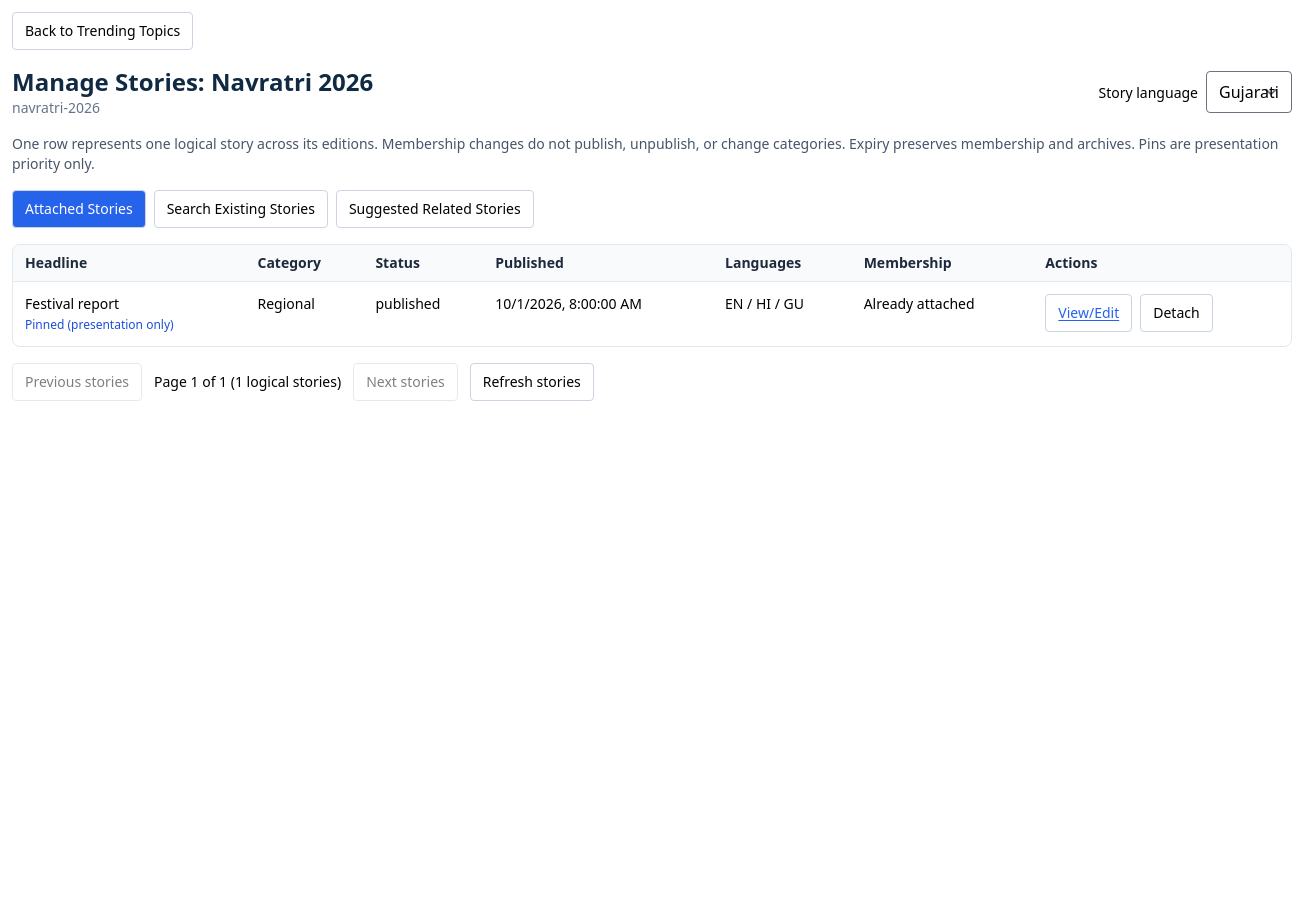
Test: Trending Topic attached/search/candidate UI › attaches 1 explicitly selected logical stories with no article/config writes
Check: the text "Festival report" is shown, box [25,294,119,313]
Click the button "Search Existing Stories" at [241, 209], box [154,190,328,228]
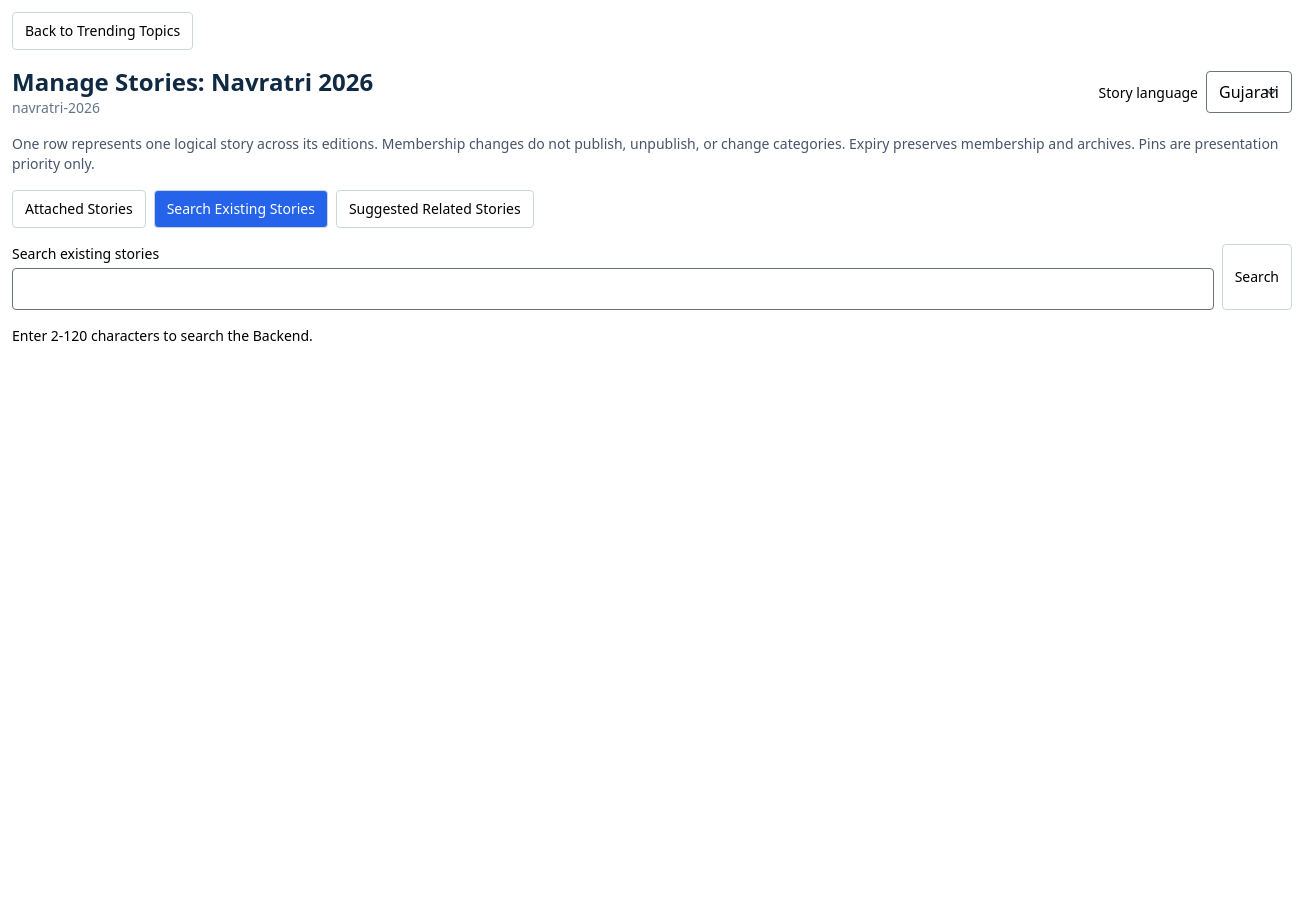
Type "navratri" into the field labelled "Search existing stories" at [613, 289], box [12,268,1214,310]
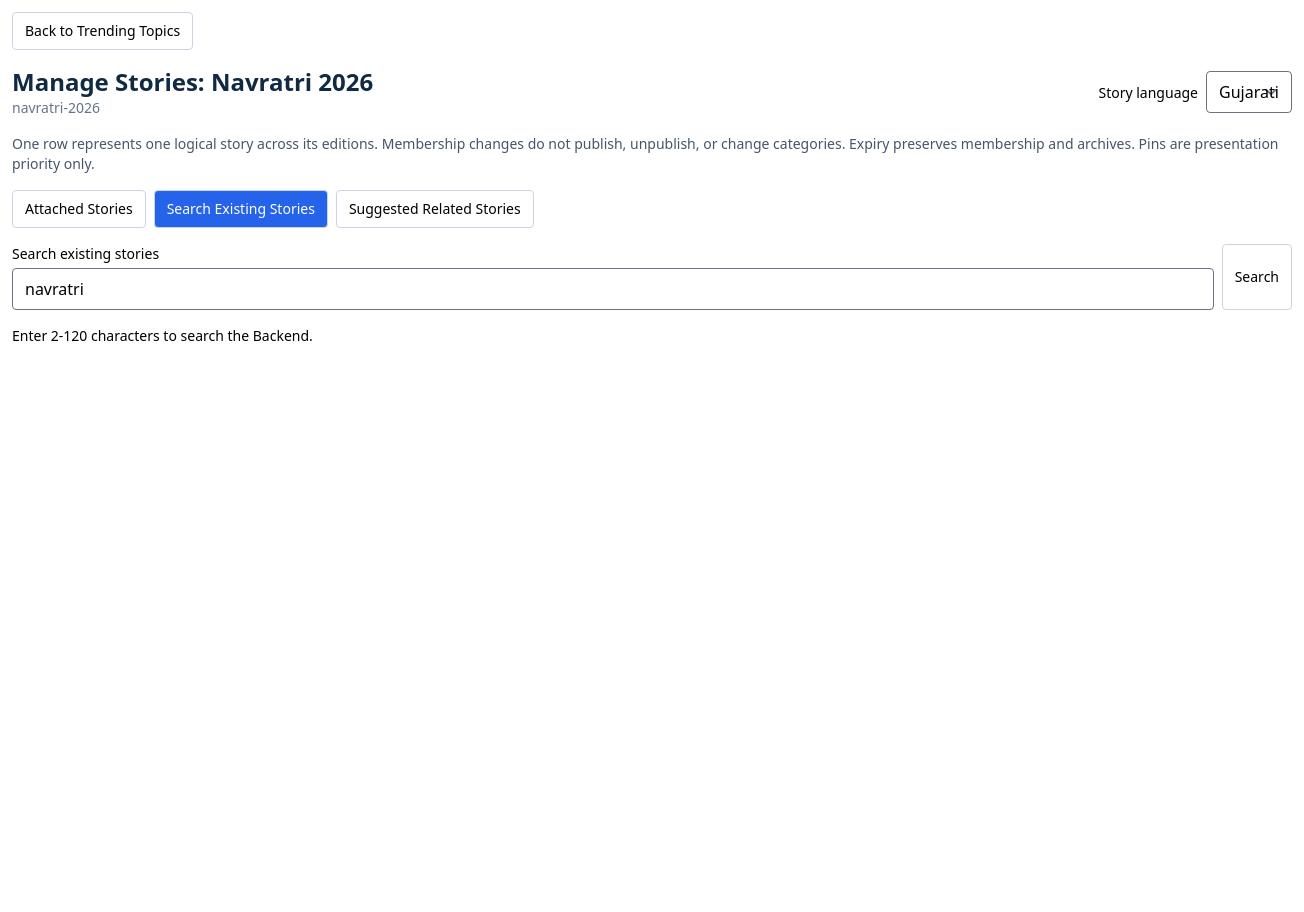
Click the button "Search" at [1257, 277], box [1222,244,1292,310]
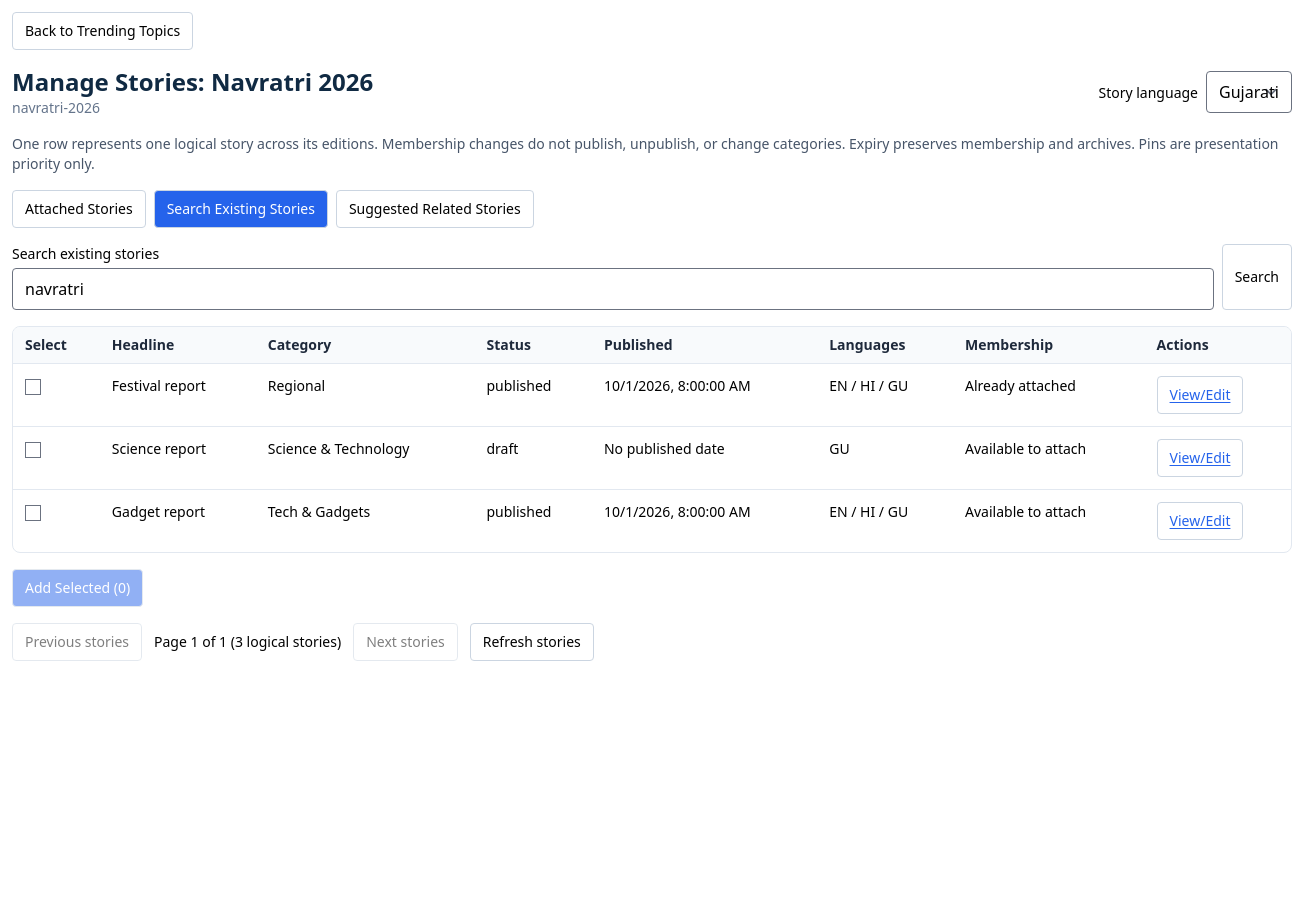
Check: the text "Science report" is shown, box [112,439,206,458]
Click the checkbox named "Select Science report" at [33, 450], box [25,442,41,458]
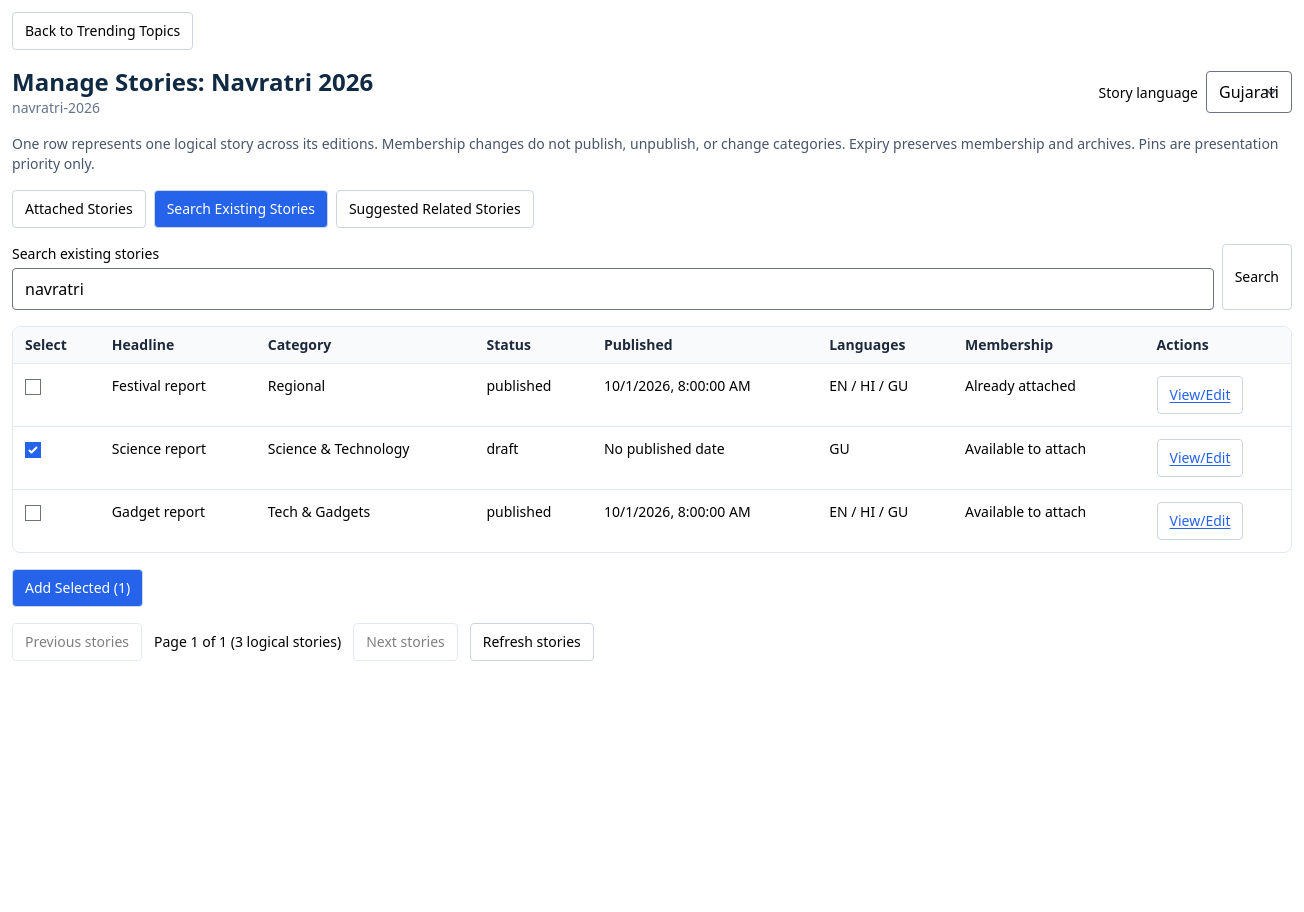
Click the button "Add Selected (1)" at [78, 588], box [12,569,143,607]
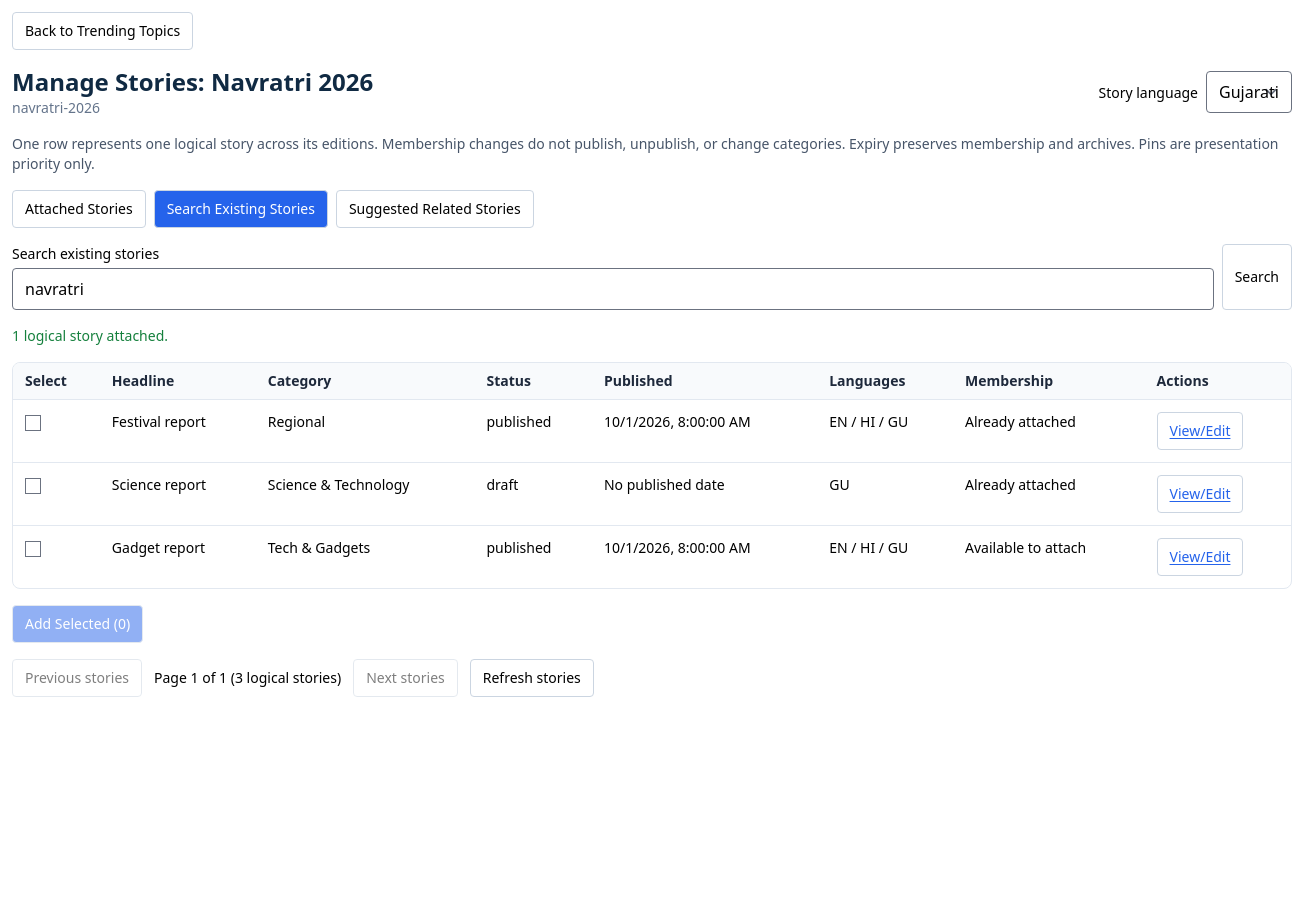
Check: the text "1 logical story attached." is shown, box [12,326,168,345]
